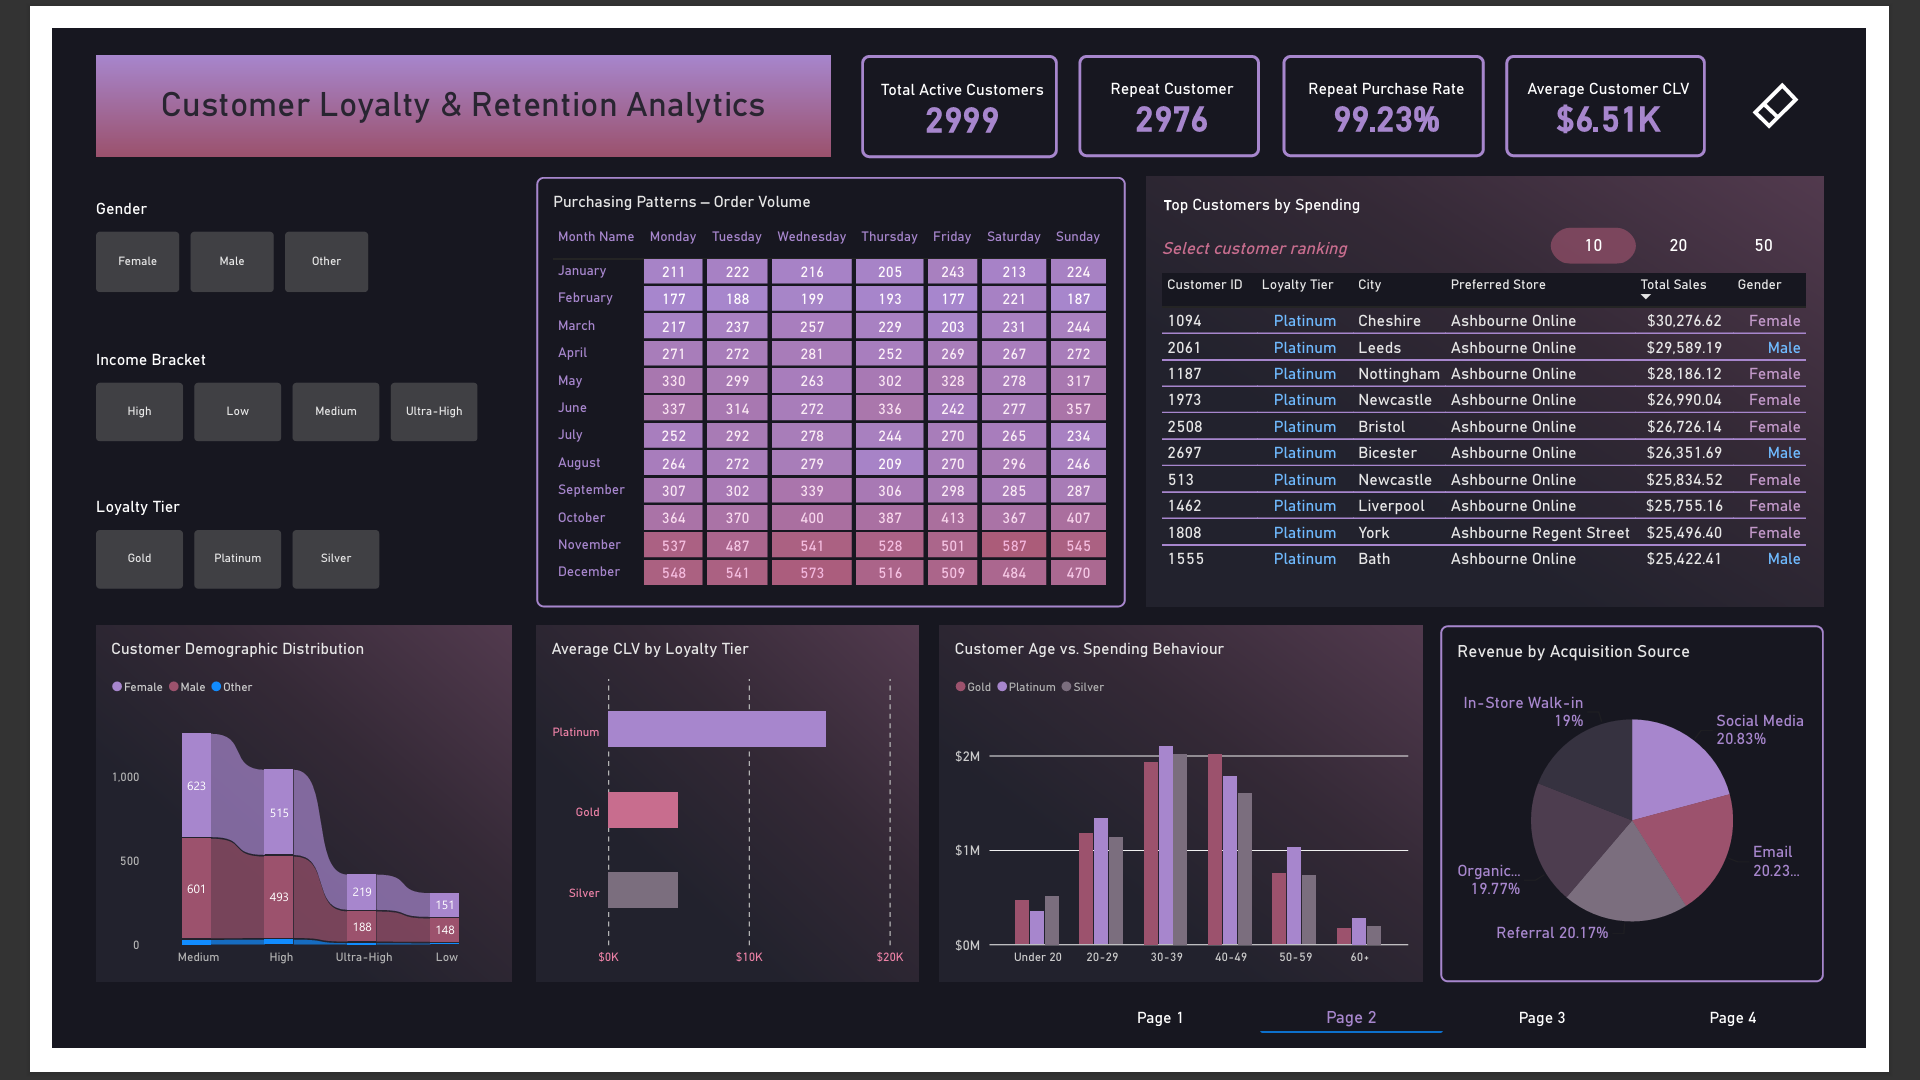

This screenshot's page, from the dashboard's own definition file:
{"tool":"powerbi","page":{"name":"Page 2","canvas":[1920,1080],"ordinal":1},"visuals":[{"type":"image","box":[46,28,778,108],"z":0},{"type":"image","box":[512.1,631.6,405.4,378.2],"z":1000},{"type":"image","title":"Top Customers by Spending","box":[1158.2,157.4,716.6,456],"z":2000},{"type":"image","box":[939.2,631.6,512.1,378.2],"z":3000},{"type":"image","box":[46,632,440,378],"z":4000},{"type":"shape","box":[46,34,778,92],"z":5000},{"type":"cardVisual","fields":{"Data":["Measures_Table.Repeat_Purchase_Rate"]},"box":[1302,28,214,108],"z":6000},{"type":"cardVisual","fields":{"Data":["Measures_Table.Total_Cus"]},"box":[856,28,208.1,108.6],"z":7000},{"type":"cardVisual","fields":{"Data":["Measures_Table.Average_Cust_CLV"]},"box":[1538,28,212,108],"z":8000},{"type":"clusteredColumnChart","title":"Customer Age vs. Spending Behaviour","fields":{"Category":["Ashbourne_Customers.Age Group"],"Series":["Ashbourne_Customers.loyalty_tier"],"Y":["Measures_Table.Total_Sales"]},"box":[939.2,631.6,512.1,378.2],"z":9000},{"type":"pieChart","title":"Revenue by Acquisition Source","fields":{"Category":["Ashbourne_Customers.acquisition_source"],"Y":["CountNonNull(Ashbourne_Customers.customer_id)"]},"box":[1469.4,631.6,405.4,378.2],"z":10000},{"type":"clusteredBarChart","title":"Average CLV by Loyalty Tier","fields":{"Category":["Ashbourne_Customers.loyalty_tier"],"Y":["Measures_Table.Average_Cust_CLV"]},"box":[512.1,631.6,405.4,378.2],"z":11000},{"type":"pivotTable","title":"Purchasing Patterns – Order Volume","fields":{"Columns":["Calendar.Day Name"],"Rows":["Calendar.Month Name"],"Values":["Measures_Table.Total_Orders"]},"box":[512.1,157.4,624.3,456],"z":12000},{"type":"tableEx","title":"Select customer ranking","fields":{"Values":["Ashbourne_Customers.customer_id","Ashbourne_Customers.loyalty_tier","Ashbourne_Customers.city","Top N Options.Preferred Store","Measures_Table.Total_Sales","Ashbourne_Customers.gender"]},"box":[1158.1,207.1,716.6,387.3],"z":12000,"group":"g1"},{"type":"cardVisual","fields":{"Data":["Measures_Table.Repeat_Customer"]},"box":[1086,28,192,108],"z":13000},{"type":"advancedSlicerVisual","fields":{"Values":["Top N Options.Top N"]},"box":[1585.9,210.4,270,38],"z":13000,"group":"g1"},{"type":"advancedSlicerVisual","title":"Gender","fields":{"Values":["Ashbourne_Customers.gender"]},"box":[46,180,288,100],"z":14000},{"type":"advancedSlicerVisual","title":"Income Bracket","fields":{"Values":["Ashbourne_Customers.income_bracket"]},"box":[46,340,406,98],"z":15000},{"type":"advancedSlicerVisual","title":"Loyalty Tier","fields":{"Values":["Ashbourne_Customers.loyalty_tier"]},"box":[46,496,302,98],"z":16000},{"type":"ribbonChart","title":"Customer Demographic Distribution","fields":{"Category":["Ashbourne_Customers.income_bracket"],"Series":["Ashbourne_Customers.gender"],"Y":["CountNonNull(Ashbourne_Customers.customer_id)"]},"box":[46,632,440,378],"z":17000},{"type":"group","id":"g1","title":"Group 1","box":[1158.1,175.5,716.6,418.9],"z":18000},{"type":"actionButton","box":[1772,30,104,106],"z":19000},{"type":"textbox","box":[1176.3,175.5,327.5,43.4],"z":19000,"group":"g1"},{"type":"pageNavigator","box":[1076,1030,800,34],"z":20000}]}

Visuals, with their boxes in screenshot pixels (x1, y1, x2, y2), scaled from the page's 1920x1080 canvas onto the 1920x1080 screenshot:
image: select_region(46, 28, 824, 136)
image: select_region(512, 632, 918, 1010)
"Top Customers by Spending" image: select_region(1158, 157, 1875, 613)
image: select_region(939, 632, 1451, 1010)
image: select_region(46, 632, 486, 1010)
shape: select_region(46, 34, 824, 126)
cardVisual - Measures_Table.Repeat_Purchase_Rate: select_region(1302, 28, 1516, 136)
cardVisual - Measures_Table.Total_Cus: select_region(856, 28, 1064, 137)
cardVisual - Measures_Table.Average_Cust_CLV: select_region(1538, 28, 1750, 136)
"Customer Age vs. Spending Behaviour" clusteredColumnChart: select_region(939, 632, 1451, 1010)
"Revenue by Acquisition Source" pieChart: select_region(1469, 632, 1875, 1010)
"Average CLV by Loyalty Tier" clusteredBarChart: select_region(512, 632, 918, 1010)
"Purchasing Patterns – Order Volume" pivotTable: select_region(512, 157, 1136, 613)
"Select customer ranking" tableEx: select_region(1158, 207, 1875, 594)
cardVisual - Measures_Table.Repeat_Customer: select_region(1086, 28, 1278, 136)
advancedSlicerVisual - Top N Options.Top N: select_region(1586, 210, 1856, 248)
"Gender" advancedSlicerVisual: select_region(46, 180, 334, 280)
"Income Bracket" advancedSlicerVisual: select_region(46, 340, 452, 438)
"Loyalty Tier" advancedSlicerVisual: select_region(46, 496, 348, 594)
"Customer Demographic Distribution" ribbonChart: select_region(46, 632, 486, 1010)
"Group 1" group: select_region(1158, 176, 1875, 594)
actionButton: select_region(1772, 30, 1876, 136)
textbox: select_region(1176, 176, 1504, 219)
pageNavigator: select_region(1076, 1030, 1876, 1064)
